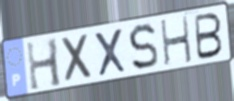B: (193, 11, 225, 62)
H: (25, 36, 64, 93), (159, 14, 194, 68)
S: (127, 22, 160, 73)
X: (92, 26, 129, 79), (60, 31, 95, 85)
